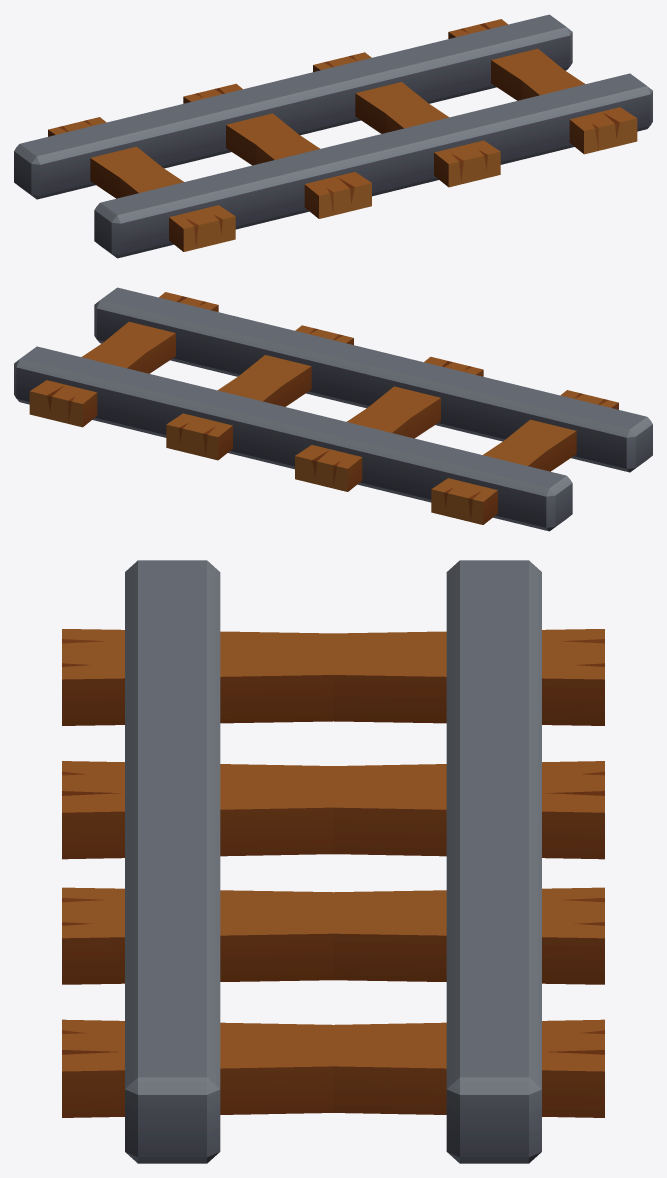
File: railway_2.glb
3 renders of one model, top to bottom at view 1: azimuth 30°, elevation 25°; view 2: azimuth 150°, elevation 25°; view 3: azimuth 270°, elevation 25°, orthographic. The views are drawn at different scales.
Parts seen in each view (by area): view 1: railway_2; view 2: railway_2; view 3: railway_2.
Part boxes in pixels (x1,y1,x2,y2): railway_2: [14, 14, 652, 258]; railway_2: [14, 287, 652, 531]; railway_2: [62, 560, 604, 1163].
Size of the model in its own units: 1.4 by 0.1065 by 0.6061.
1 material, 1 textured.
